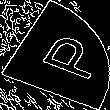P_NW: (14, 27, 96, 83)
